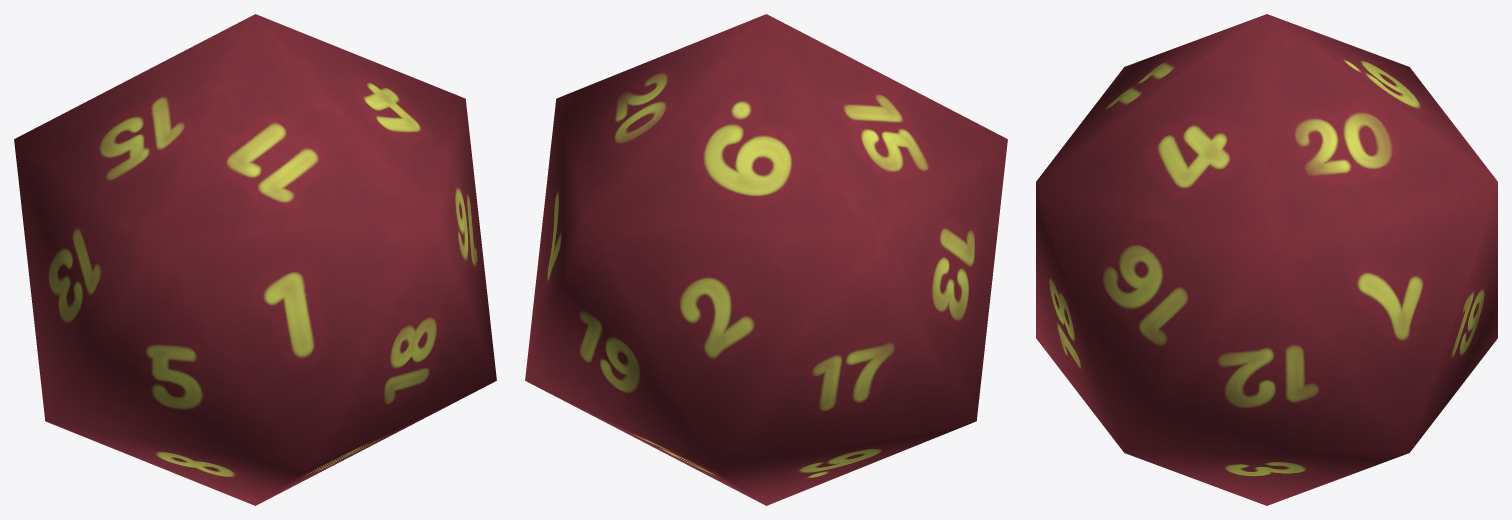
The picture shows the model from 3 angles, left to right: view 1: azimuth 30°, elevation 25°; view 2: azimuth 150°, elevation 25°; view 3: azimuth 270°, elevation 25°; orthographic projection.
Parts seen in each view (by area): view 1: Dice_D20_low; view 2: Dice_D20_low; view 3: Dice_D20_low.
Part boxes in pixels (bbox=[...]): Dice_D20_low: bbox=[14, 14, 496, 505]; Dice_D20_low: bbox=[525, 14, 1007, 505]; Dice_D20_low: bbox=[1036, 14, 1497, 505].
Bounding box in the file's own units: 1.78 × 2 × 1.7.
Materials: 1 (1 with a texture image).
